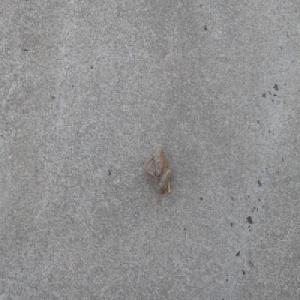Rock: (142, 145, 171, 195)
